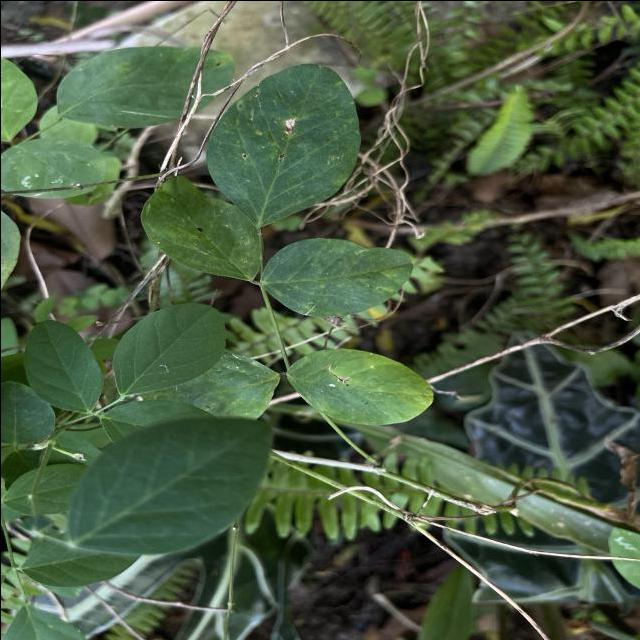Clitoria ternatea: (204, 62, 362, 228), (259, 236, 414, 318), (284, 346, 434, 426), (110, 301, 227, 395)
